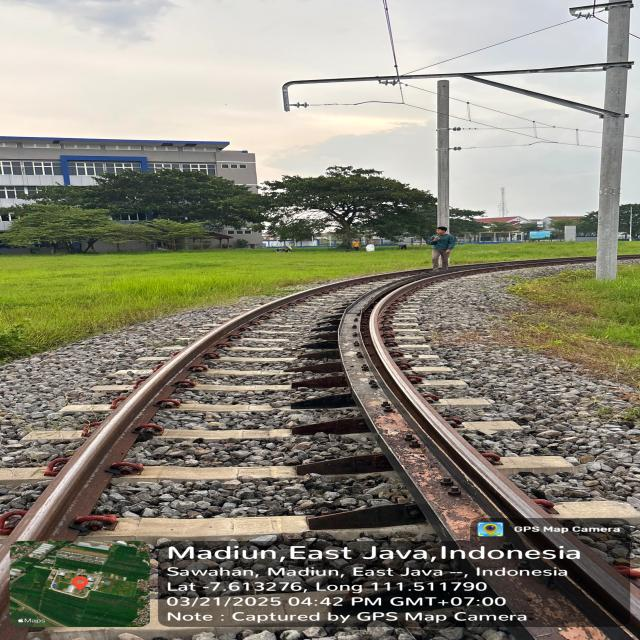rail-detection: (292, 276, 640, 640), (0, 281, 351, 595)
